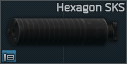SKS Hexagon 7.62x39 sound suppressor: (0, 0, 127, 64)
